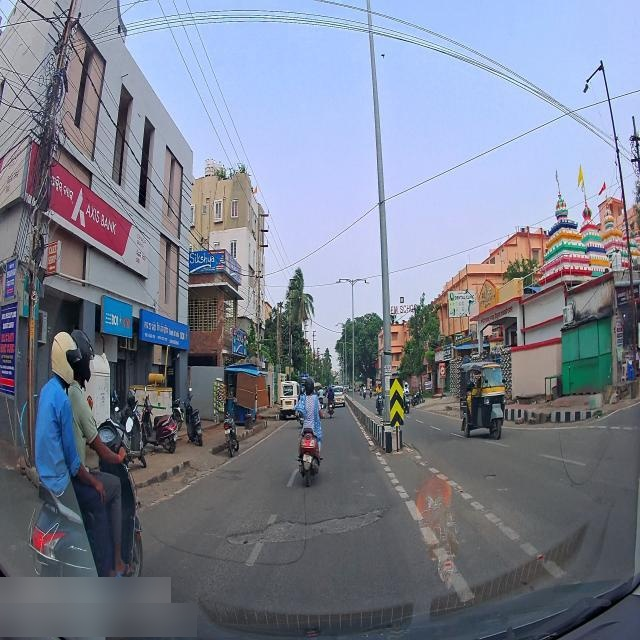pothole: (220, 490, 400, 557)
